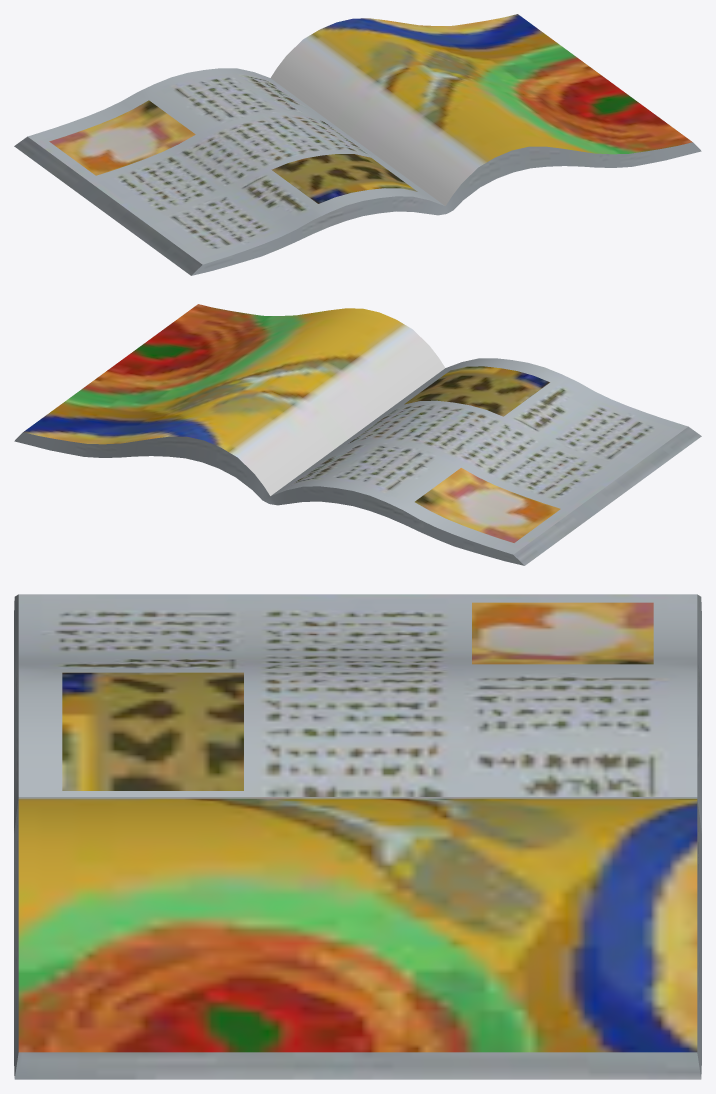
3 views of the same model, one above another, from view 1: azimuth 30°, elevation 25°; view 2: azimuth 150°, elevation 25°; view 3: azimuth 270°, elevation 25° (orthographic). The views are drawn at different scales.
Size of the model in its own units: 8.4 by 0.7294 by 5.06.
2 materials, 2 textured.
